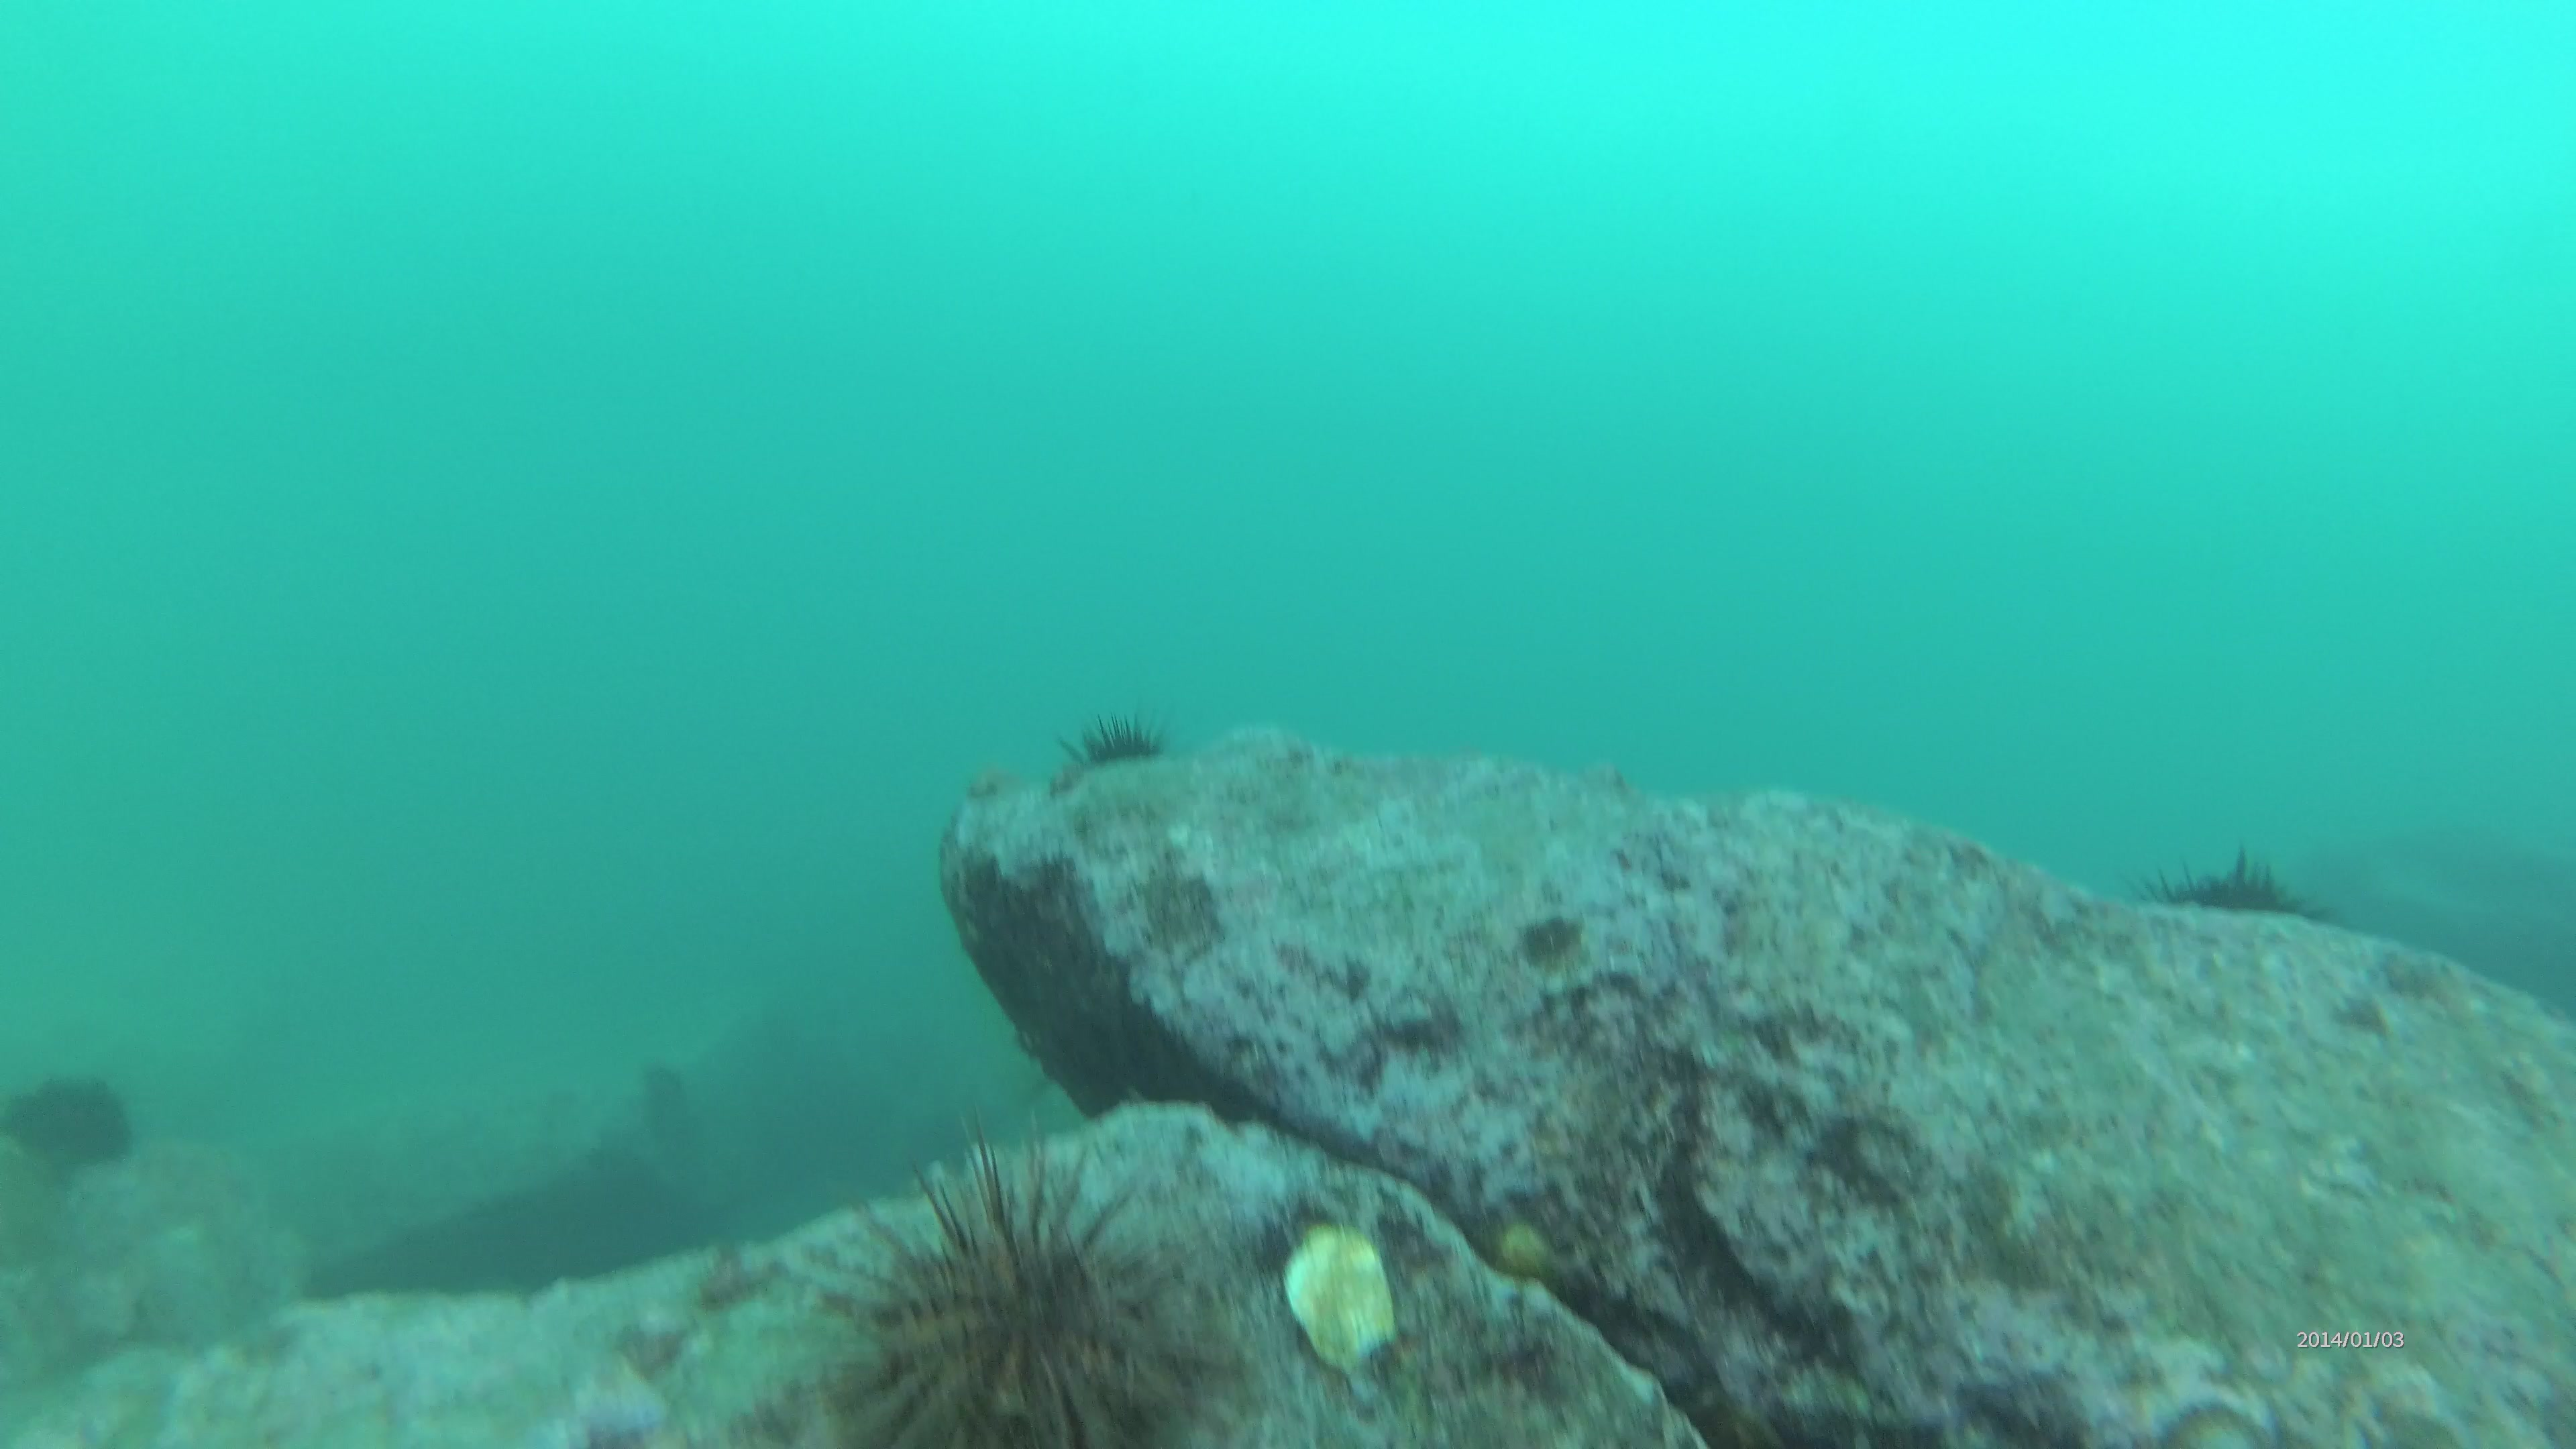echinus: (796, 1108, 1260, 1449), (2134, 839, 2328, 931), (0, 1070, 143, 1175), (1053, 701, 1189, 791)
scallop: (1279, 1210, 1408, 1378)
